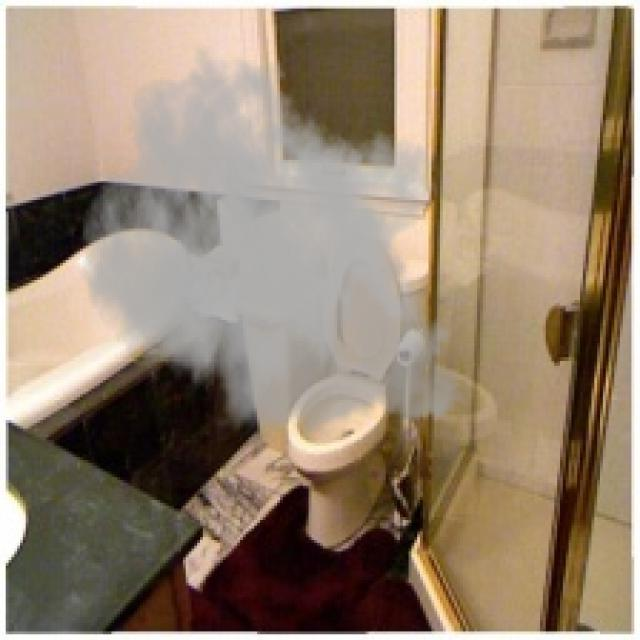Smoke: (80, 43, 477, 446)
